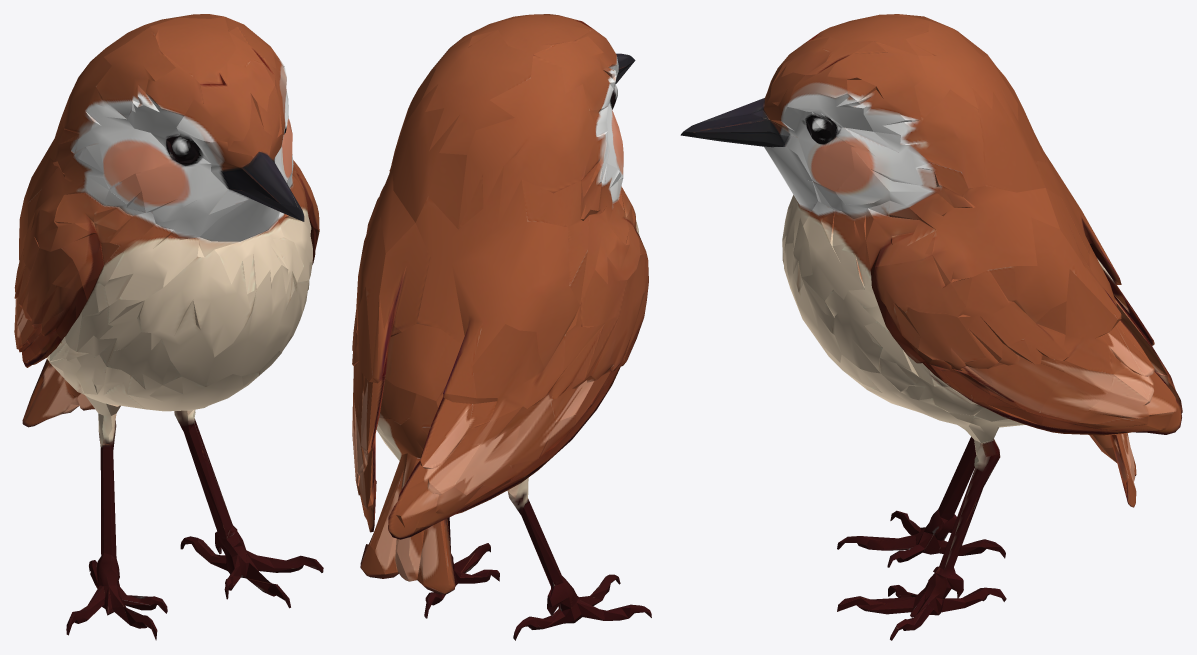
The model's file is sparrow.glb.
3 renders of one model, left to right at view 1: azimuth 30°, elevation 25°; view 2: azimuth 150°, elevation 25°; view 3: azimuth 270°, elevation 25°, orthographic. The views are drawn at different scales.
Bounding box in the file's own units: 0.9056 × 1.9 × 1.56.
Materials: 1 (1 with a texture image).
